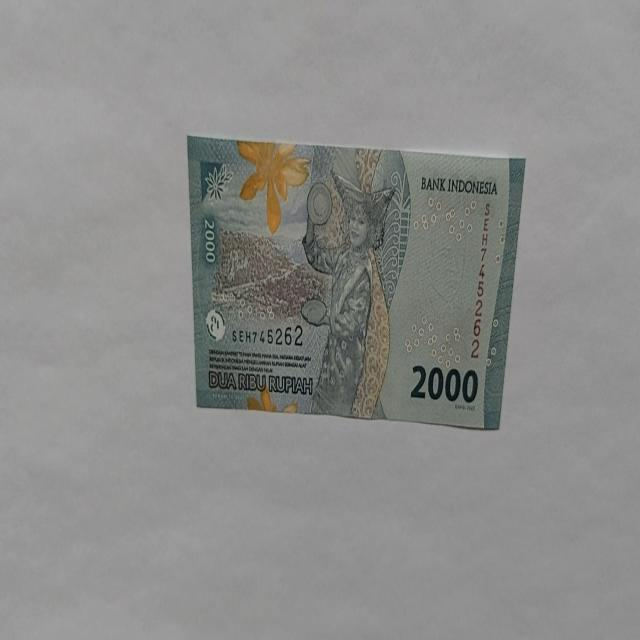dua ribu rupiah: (187, 136, 526, 430), (300, 168, 396, 418)
